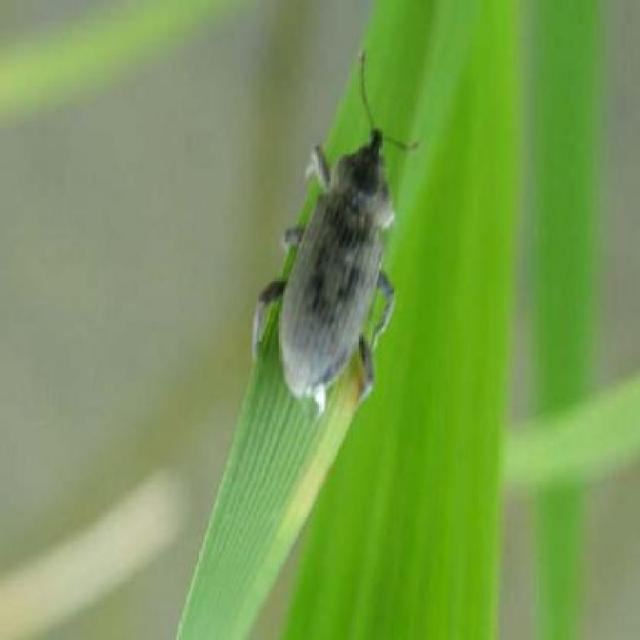rice-bug: (262, 96, 406, 402)
